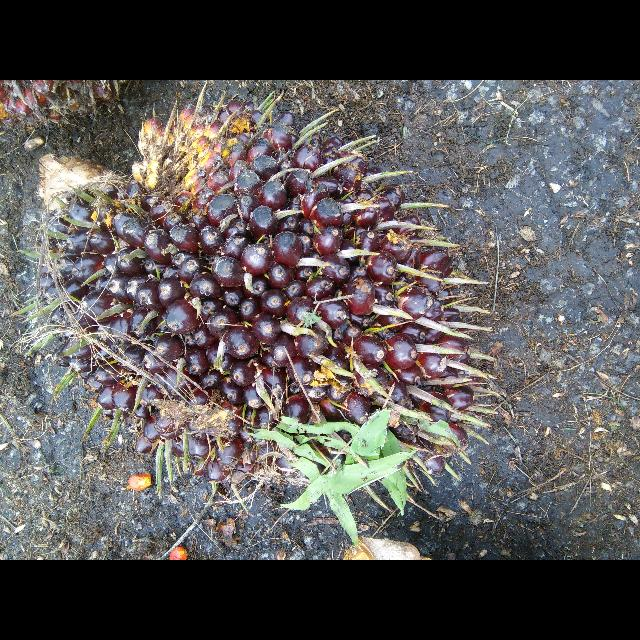Unripe: (38, 103, 489, 503)
